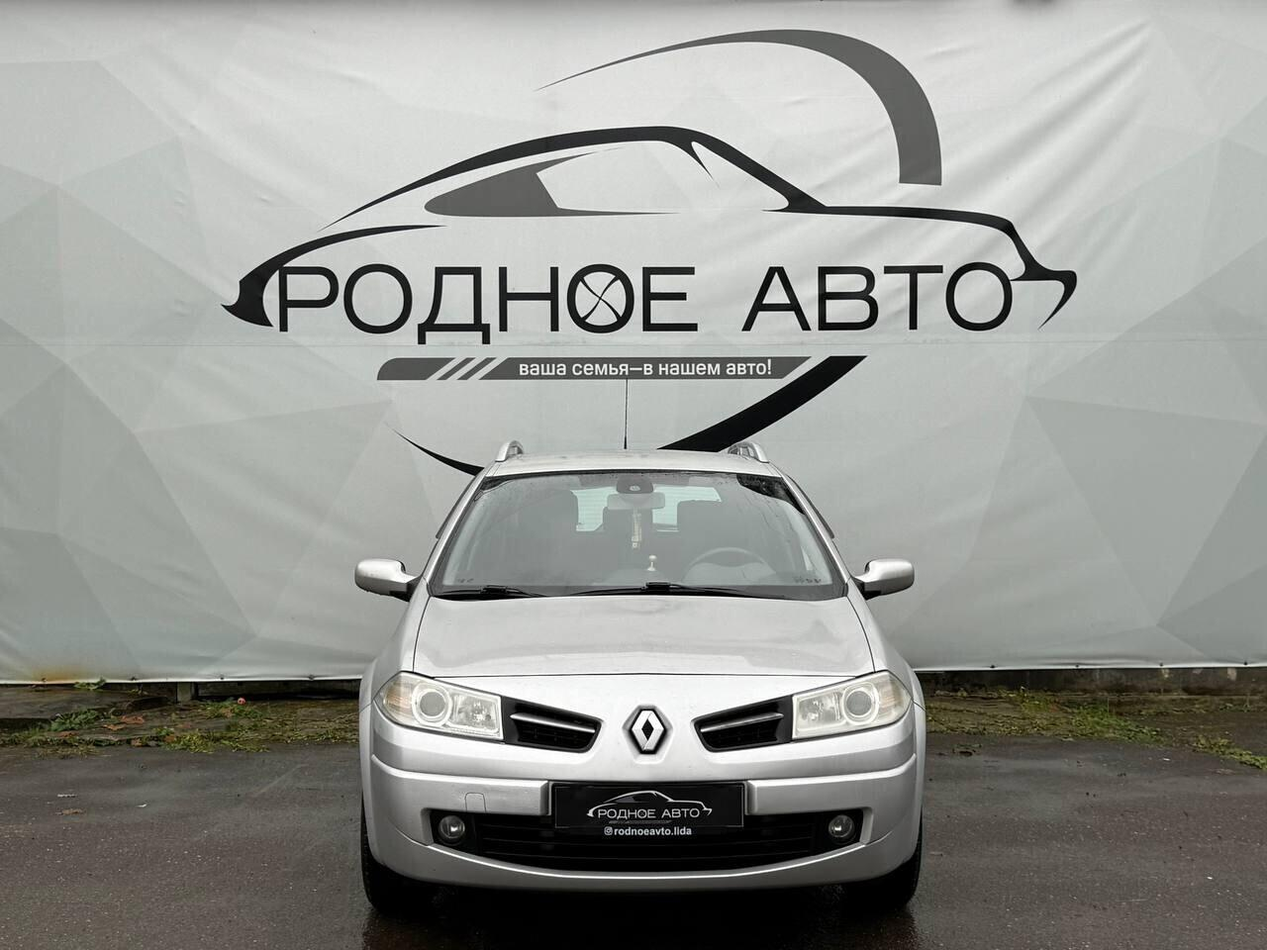Megane_2005-2009: (345, 448, 930, 935)
